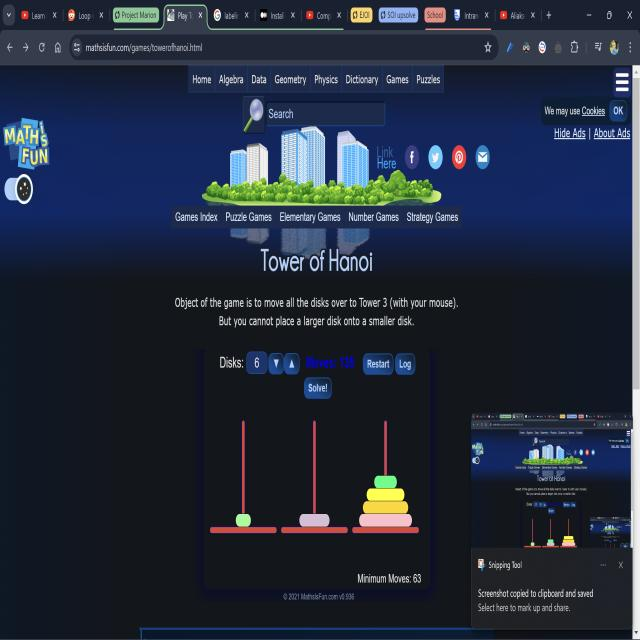disk1: (236, 514, 251, 526)
disk2: (374, 476, 397, 488)
disk3: (299, 514, 330, 526)
disk4: (366, 488, 405, 501)
disk5: (363, 502, 409, 514)
disk6: (359, 514, 412, 527)
